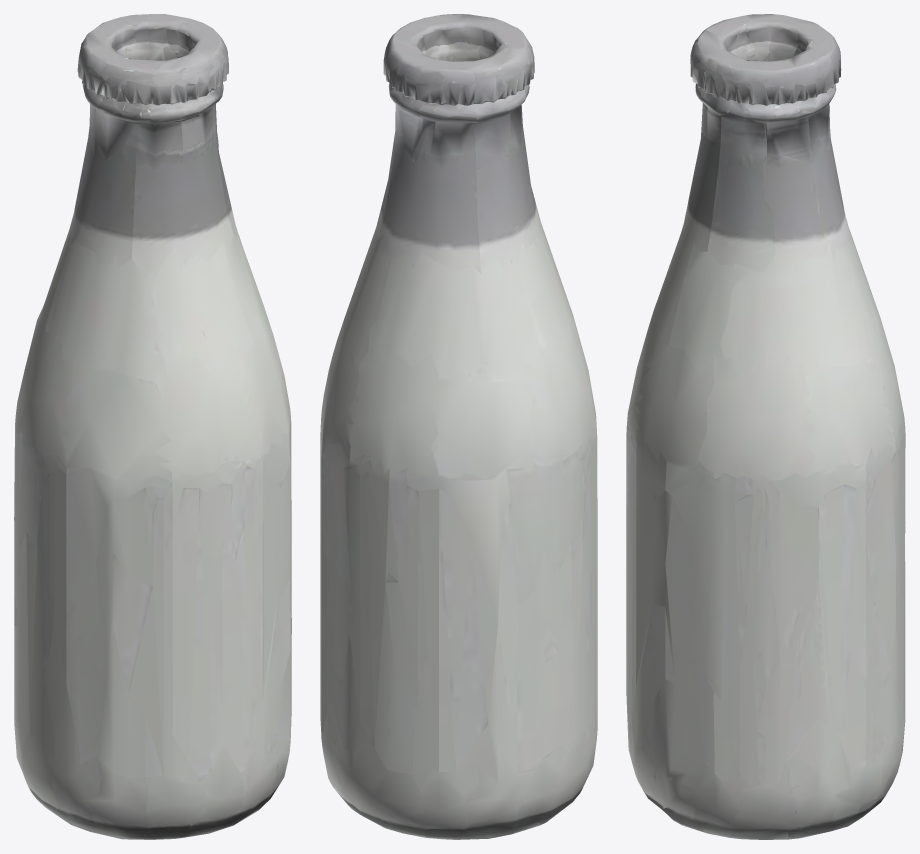
Rendered from milk.glb.
3 views of the same model, side by side, from view 1: azimuth 30°, elevation 25°; view 2: azimuth 150°, elevation 25°; view 3: azimuth 270°, elevation 25° (orthographic).
Bounding box in the file's own units: 0.6336 × 1.9 × 0.6376.
Materials: 1 (1 with a texture image).
